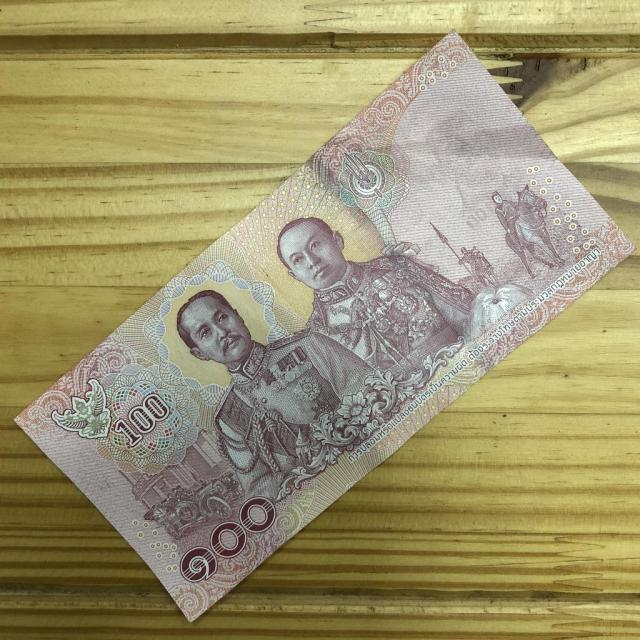THAI100: (14, 31, 632, 624)
